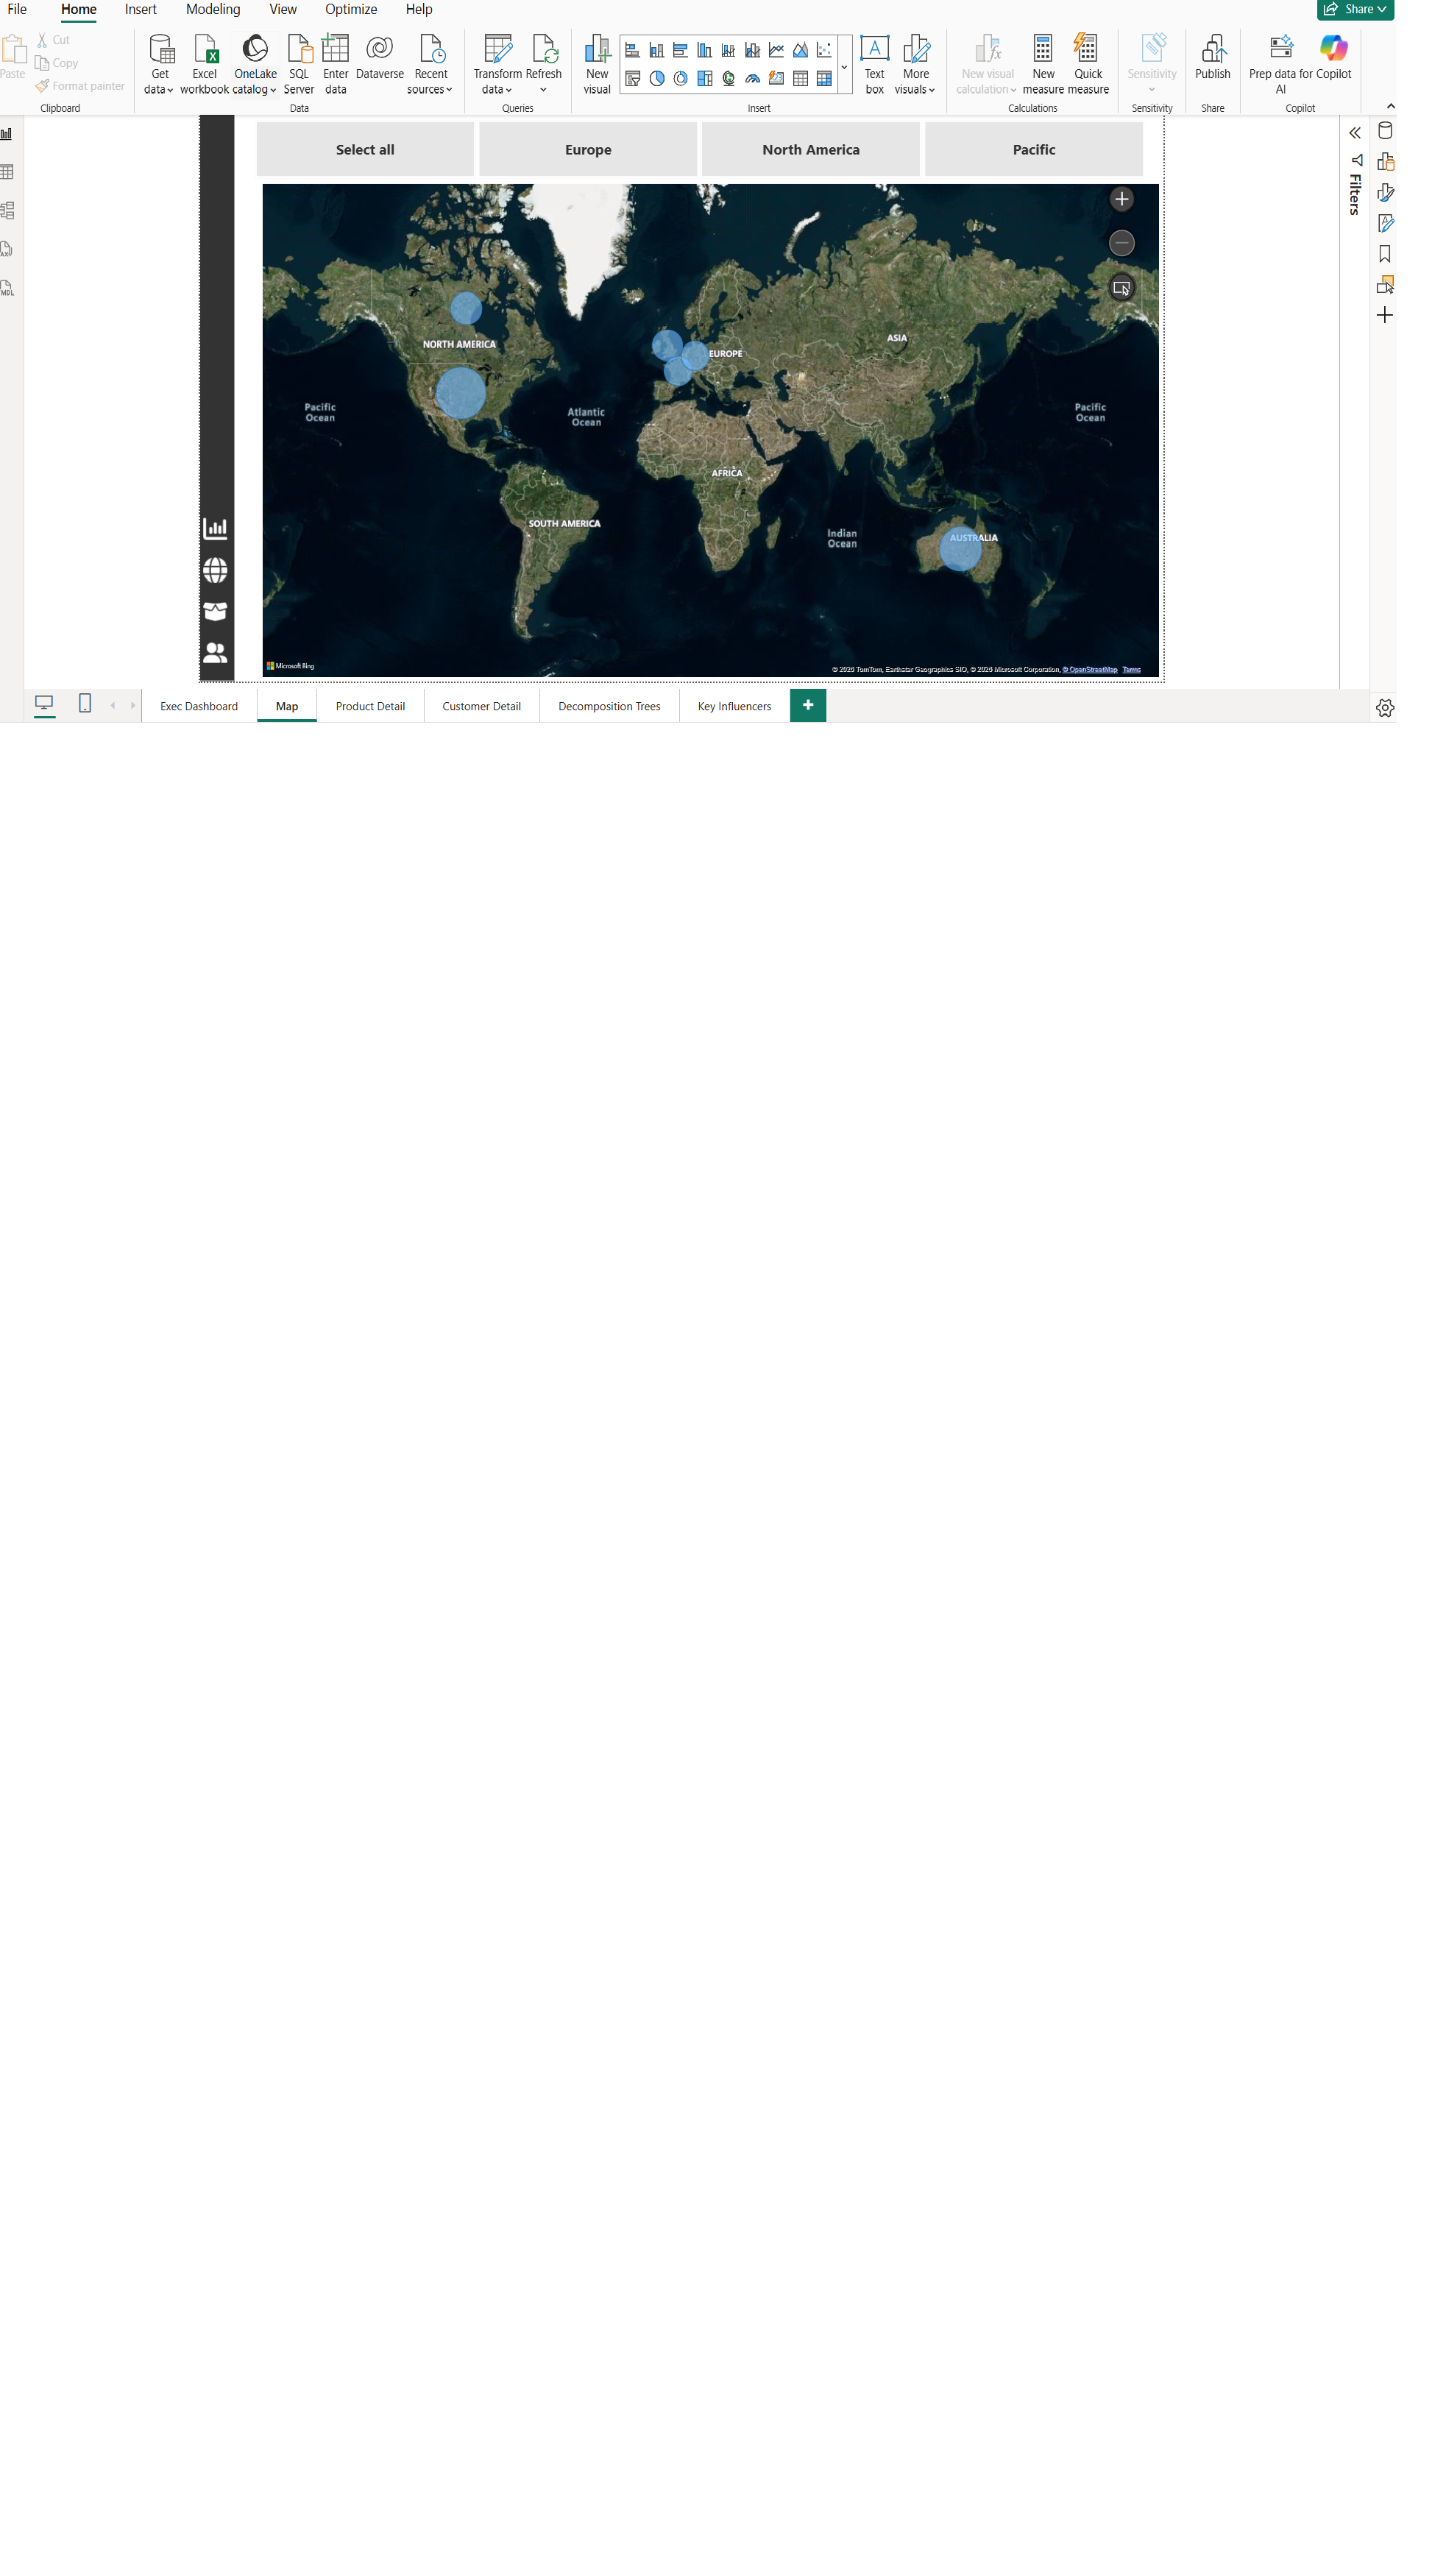

This screenshot's page, from the dashboard's own definition file:
{"tool":"powerbi","page":{"name":"Map","canvas":[1280,720],"ordinal":1},"visuals":[{"type":"shape","box":[0,0,45.5,719.6],"z":0},{"type":"actionButton","box":[0,506.4,42.8,40.4],"z":0,"group":"g1"},{"type":"map","fields":{"Category":["Territory Lookup.Country"],"Size":["Measure Table.Total Orders"]},"box":[77.9,77.9,1201.8,642],"z":1000},{"type":"actionButton","box":[0,559,42.8,40.4],"z":1000,"group":"g1"},{"type":"slicer","fields":{"Values":["Territory Lookup.Continent"]},"box":[46.2,0,1233.6,88],"z":2000},{"type":"actionButton","box":[0,611.6,42.8,40.4],"z":2000,"group":"g1"},{"type":"group","id":"g1","title":"Navigation Buttons","box":[0,506.4,43.3,197.7],"z":3000},{"type":"actionButton","box":[0,664.1,42.8,40.4],"z":3000,"group":"g1"}]}

Visuals, with their boxes on the page's 1280x720 design canvas (x1, y1, x2, y2). These are canvas units, not pixel positions in the 1446x2576 screenshot, which may show the page scaled, cropped or inside an application window:
shape: <box>0,0,46,720</box>
actionButton: <box>0,506,43,547</box>
map - Territory Lookup.Country x Measure Table.Total Orders: <box>78,78,1280,720</box>
actionButton: <box>0,559,43,599</box>
slicer - Territory Lookup.Continent: <box>46,0,1280,88</box>
actionButton: <box>0,612,43,652</box>
"Navigation Buttons" group: <box>0,506,43,704</box>
actionButton: <box>0,664,43,704</box>
